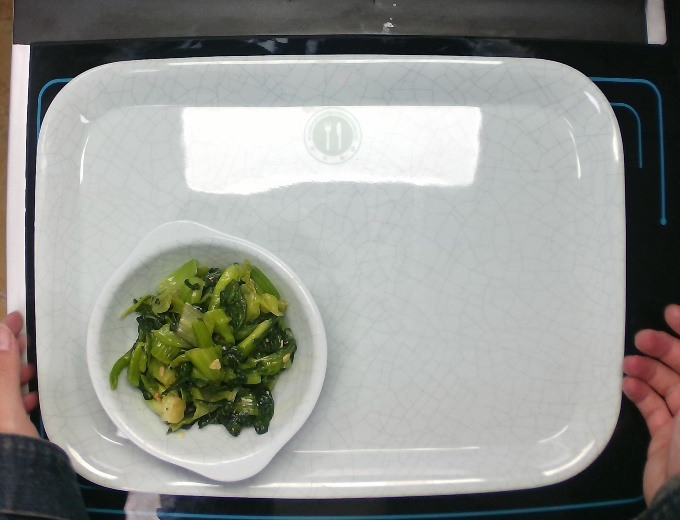JYsf-Shuang_Er_Wan: (81, 218, 332, 487)
